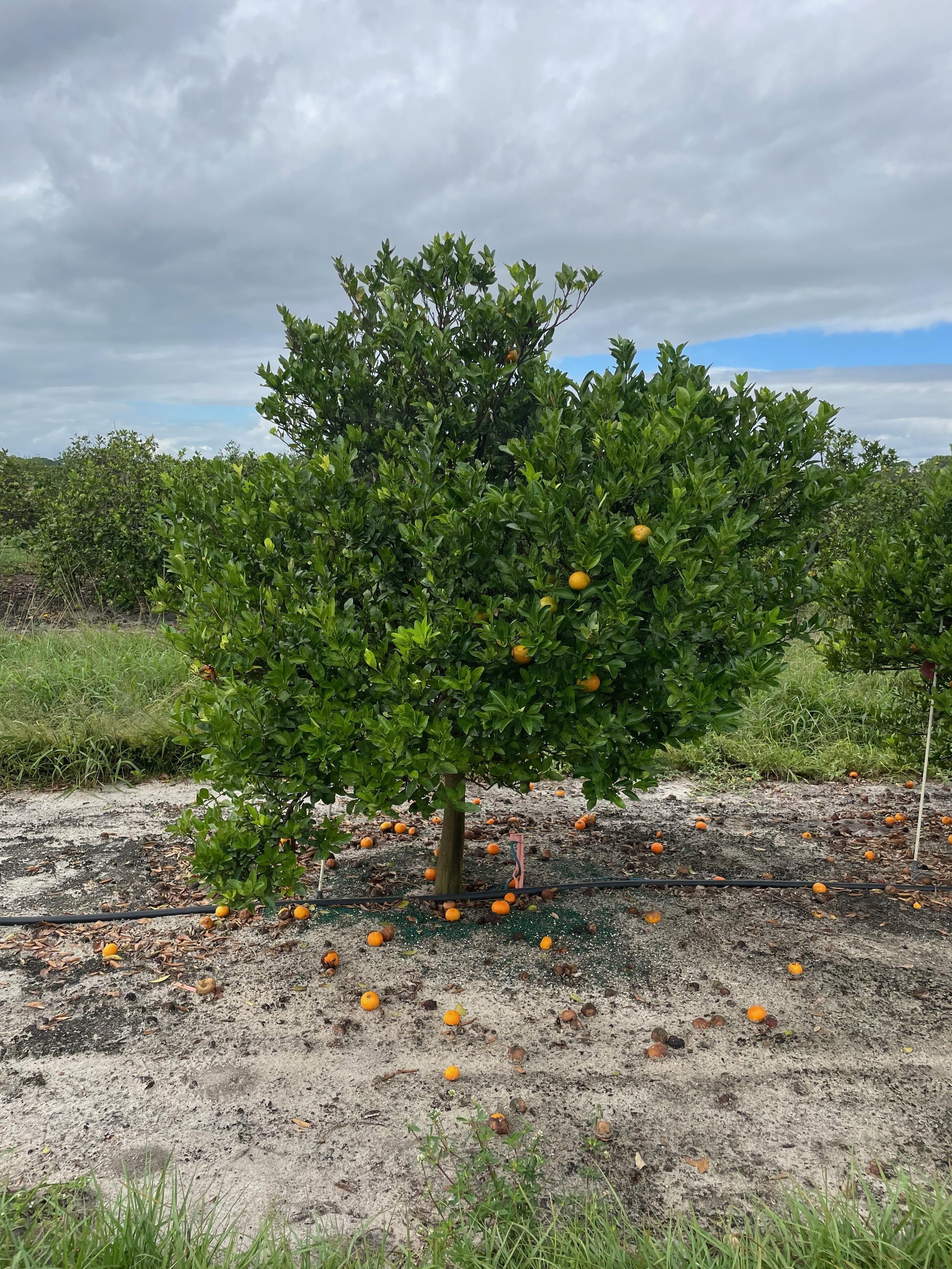fruit_on_ground: (627, 522, 654, 548), (566, 568, 593, 593), (575, 670, 602, 694), (535, 593, 561, 617), (509, 642, 534, 666), (196, 660, 220, 684), (499, 344, 522, 367), (276, 834, 296, 851), (308, 332, 321, 345), (524, 780, 536, 792)
fruit_on_tree: (487, 1112, 511, 1135), (193, 975, 218, 997), (359, 989, 380, 1011), (646, 1042, 668, 1061), (320, 949, 340, 969), (442, 1009, 461, 1027), (378, 924, 396, 942), (443, 1063, 461, 1081), (366, 930, 384, 948), (747, 1004, 766, 1021), (444, 907, 462, 924), (102, 941, 120, 958), (491, 898, 510, 914), (198, 914, 216, 930), (691, 1015, 709, 1031), (292, 904, 310, 920), (276, 905, 294, 921), (559, 1008, 578, 1023), (644, 909, 662, 924), (787, 960, 804, 975), (709, 1013, 726, 1027), (214, 903, 229, 918), (651, 1026, 666, 1040), (324, 855, 339, 869), (764, 1015, 779, 1029), (581, 1002, 596, 1016), (539, 935, 554, 949), (424, 865, 438, 880), (650, 841, 665, 854), (486, 842, 501, 855), (811, 881, 827, 893), (238, 906, 252, 919), (541, 886, 555, 899), (394, 820, 408, 833), (442, 899, 457, 911), (553, 963, 566, 976), (573, 819, 586, 832), (506, 876, 520, 888), (920, 874, 934, 886), (540, 847, 554, 859), (359, 837, 373, 849), (503, 891, 516, 903), (863, 848, 875, 861), (939, 812, 951, 824), (407, 824, 419, 836), (895, 811, 908, 822), (695, 819, 708, 830), (847, 768, 859, 779), (430, 814, 442, 825), (508, 814, 520, 825), (678, 863, 690, 874), (380, 820, 392, 831), (653, 828, 666, 838), (554, 787, 567, 797), (761, 870, 774, 880), (883, 814, 894, 825), (471, 795, 482, 805), (486, 816, 497, 826), (825, 854, 836, 864), (713, 873, 725, 882), (588, 813, 598, 823), (802, 830, 813, 839), (905, 779, 916, 788), (577, 816, 587, 824), (582, 813, 590, 821)
